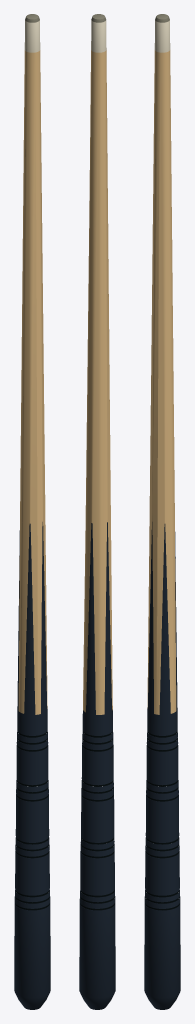
Rendered from BiliardStick.fbx.
3 renders of one model, left to right at view 1: azimuth 90°, elevation 25°; view 2: azimuth 150°, elevation 25°; view 3: azimuth 270°, elevation 25°, orthographic.
Parts seen in each view (by area): view 1: Stick; view 2: Stick; view 3: Stick.
Part boxes in pixels (left/top/right/bottom): Stick: left=14, top=14, right=50, bottom=1009; Stick: left=79, top=14, right=115, bottom=1009; Stick: left=144, top=14, right=180, bottom=1009.
Size of the model in its own units: 16.02 by 482 by 16.02.
